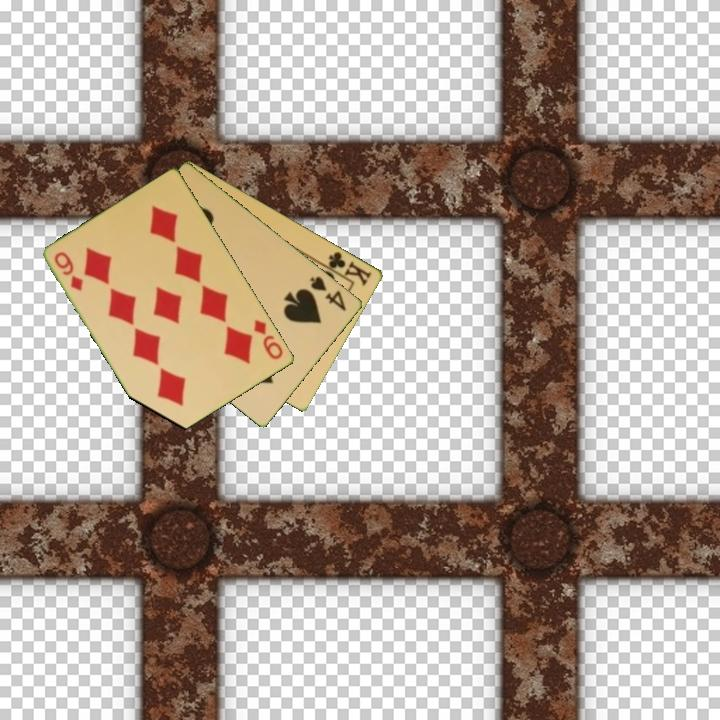4s: (307, 273, 350, 314)
9d: (251, 316, 287, 363), (51, 248, 86, 294)
Kc: (319, 248, 375, 289)
